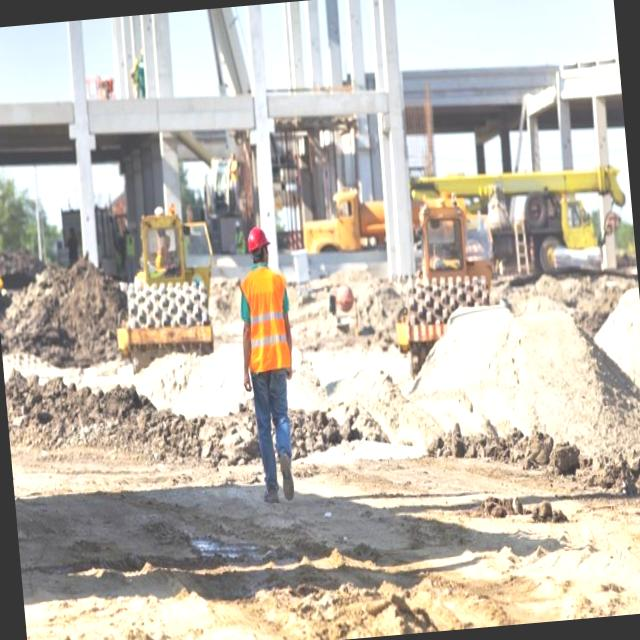helmet: (242, 222, 272, 254)
vest: (233, 257, 294, 381)
